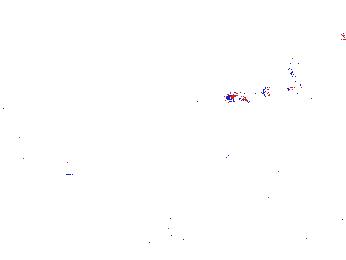glassfish: (201, 136, 309, 200)
red belly glassfish: (223, 85, 268, 107), (283, 78, 330, 97), (284, 55, 319, 70)
